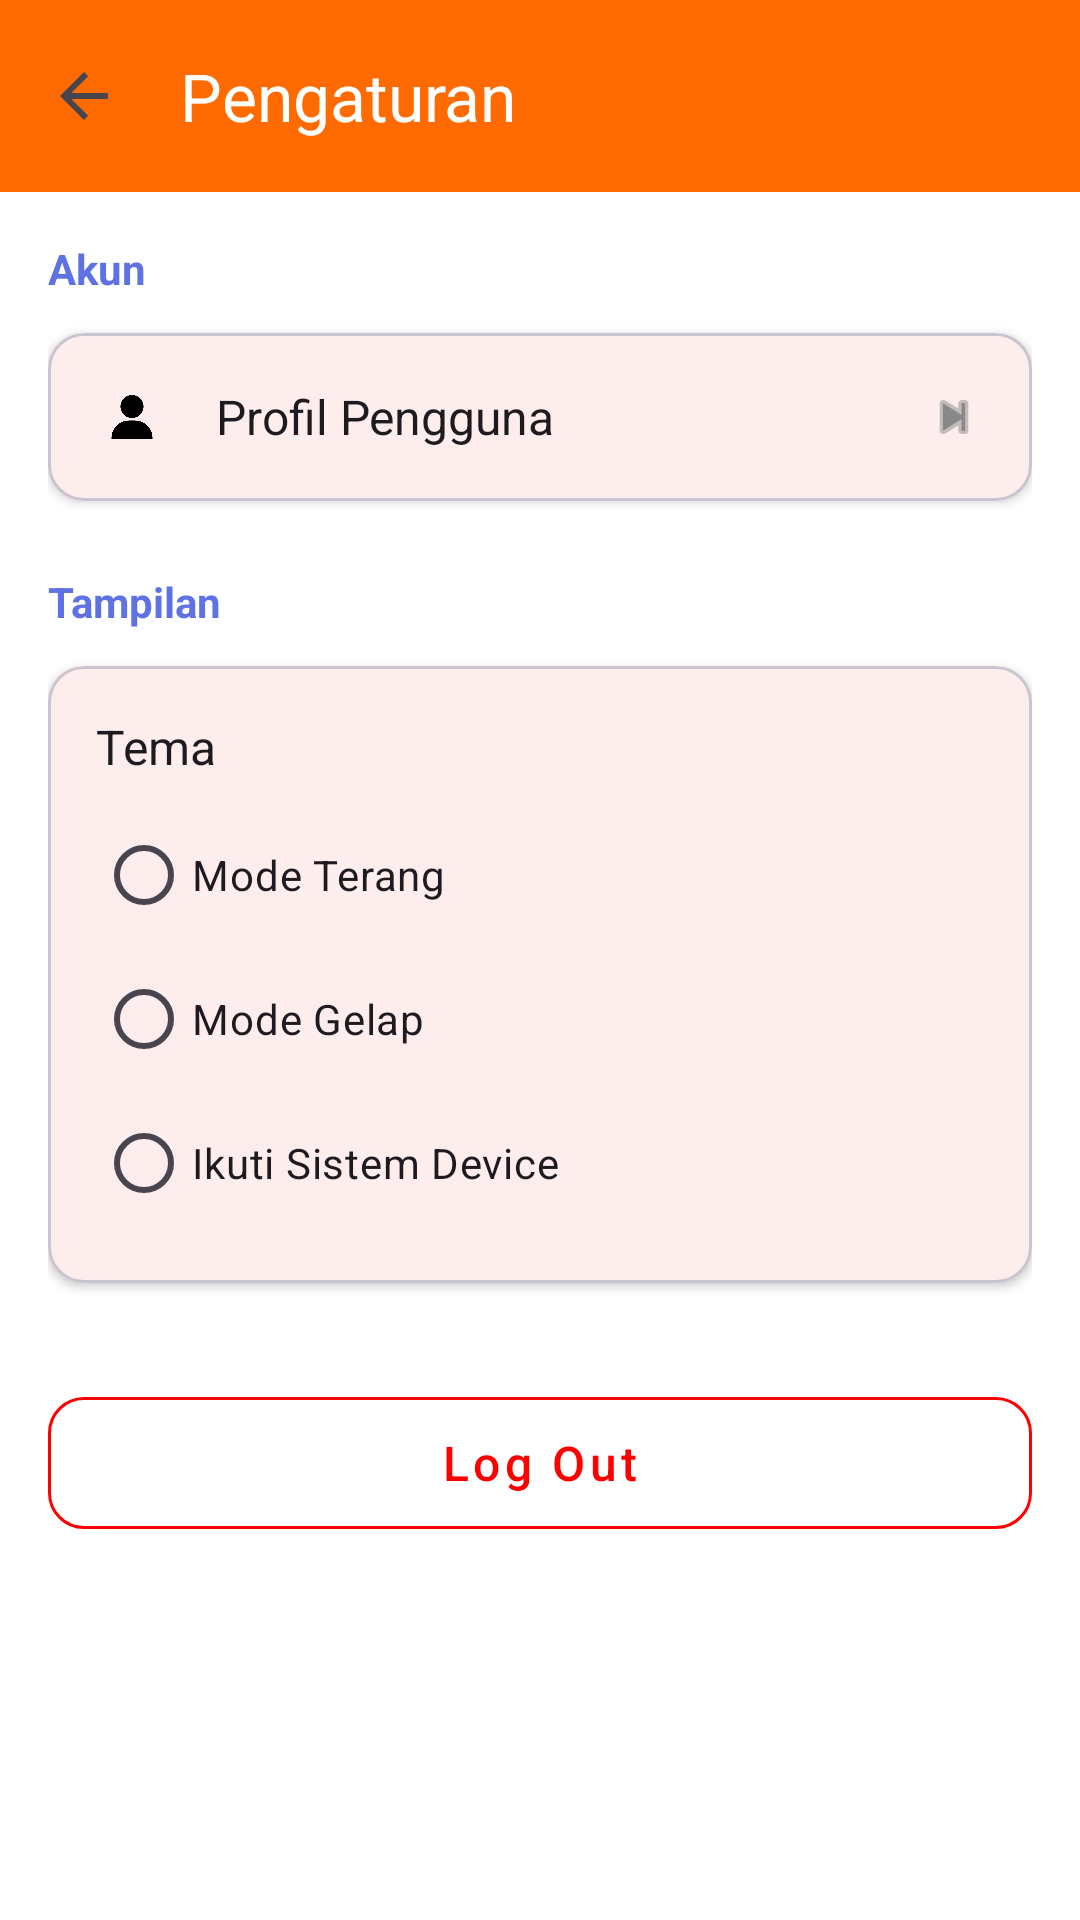

Screen size 1080px x 1920px. Icon name, then its box in pixels as (x1, y1, x2, y2):
next: (940, 400, 968, 434)
profile: (111, 395, 153, 439)
